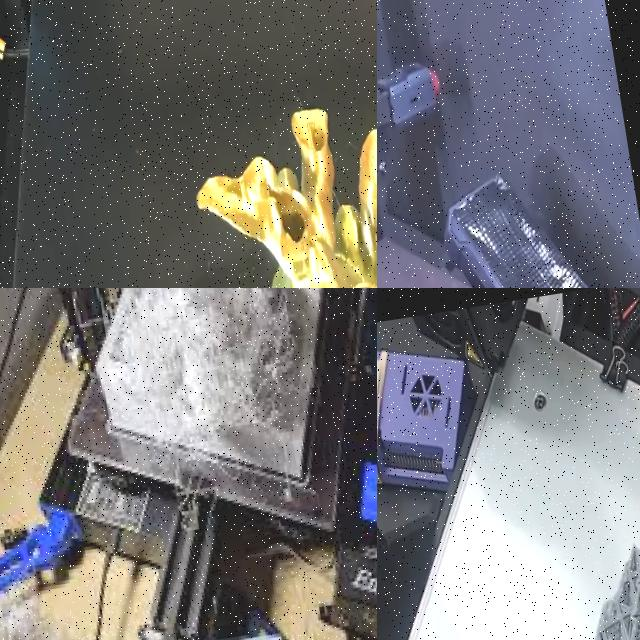spaghetti: (96, 288, 321, 482), (0, 579, 61, 640)
